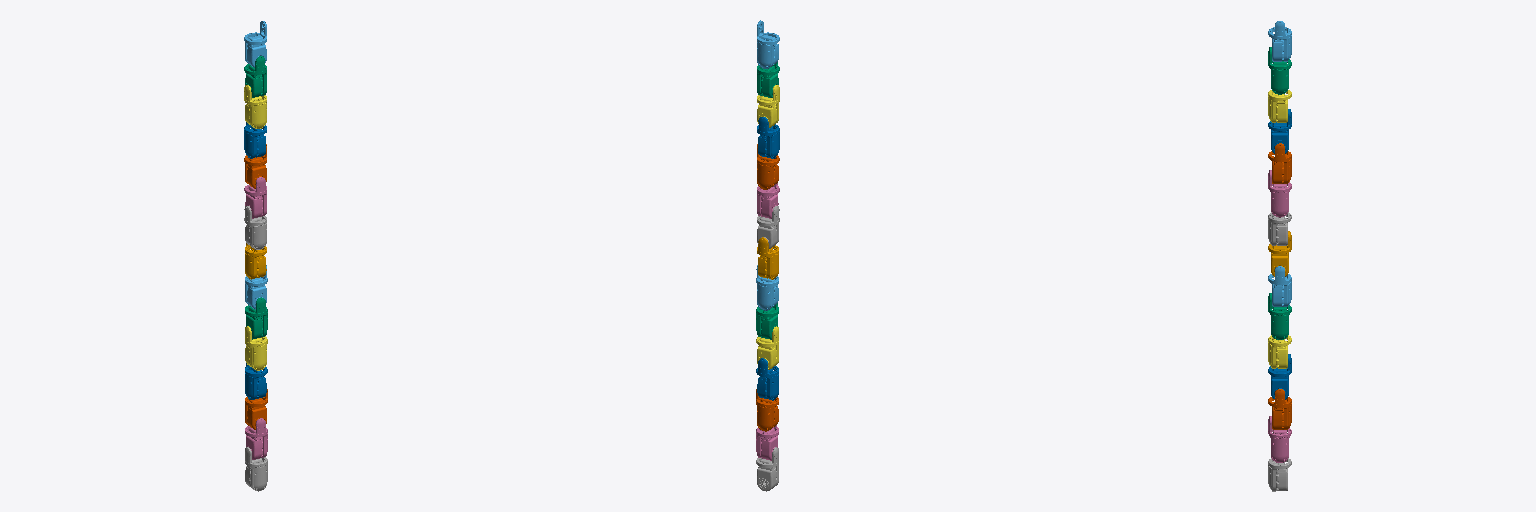
URDF robot description (RSNAKE_urdf):
<?xml version="1.0"?>
<!-- https://docs.hebi.us/resources/datasheets/R-SeriesDatasheet.pdf -->

<!-- Inertia approximated as sphere-->
<!-- Mass computed by summing the bracket and module masses -->

<robot name="RSNAKE_urdf">
	<link name="kdl_dummy_root"/>
	<joint name="kdl_dummy_root_to_module_0" type="fixed">
		<parent link="kdl_dummy_root"/>
		<child link="module_0"/>
		<origin rpy="0 1.57 0" xyz="0. 0 0"/>
	</joint>
	<link name="module_0">
		<visual>
			<origin rpy="0 0 0" xyz="0 0 0"/>
			<geometry>
				<mesh filename="package://snakelib_description/RSNAKE_snake/meshes/R8_16_link.stl" scale="0.001 0.001 0.001"/>
			</geometry>
		</visual>
		<collision>
			<origin rpy="0 1.57 0" xyz="0.118 0 0"/>
			<geometry>
				<cylinder length="0.1450" radius="0.05"/>
			</geometry>
		</collision>
		<inertial>
			<mass value="1.072"/>
			<inertia ixx="0.0104" ixy="0.0" ixz="0.0" iyy="0.0104" iyz="0.0" izz="0.0104"/>
		</inertial>
	</link>

	<joint name="module_0_to_1" type="revolute">
		<parent link="module_0"/>
		<child link="module_1"/>
		<axis xyz="0 0 1"/>
		<origin rpy="1.57 0 0" xyz="0.145 0 0"/>
		<limit effort="16.0" lower="-1.57" upper="1.57" velocity="0.25"/>
	</joint>

	<link name="module_1">
		<visual>
			<origin rpy="0 0 0" xyz="0 0 0"/>
			<geometry>
				<mesh filename="package://snakelib_description/RSNAKE_snake/meshes/R8_16_link.stl" scale="0.001 0.001 0.001"/>
			</geometry>
		</visual>
		<collision>
			<origin rpy="0 1.57 0" xyz="0.118 0 0"/>
			<geometry>
				<cylinder length="0.1450" radius="0.05"/>
			</geometry>
		</collision>
		<inertial>
			<mass value="1.072"/>
			<inertia ixx="0.0104" ixy="0.0" ixz="0.0" iyy="0.0104" iyz="0.0" izz="0.0104"/>
		</inertial>
	</link>

	<joint name="module_1_to_2" type="revolute">
		<parent link="module_1"/>
		<child link="module_2"/>
		<axis xyz="0 0 1"/>
		<origin rpy="1.57 0 0" xyz="0.145 0 0"/>
		<limit effort="16.0" lower="-1.57" upper="1.57" velocity="0.25"/>
	</joint>

	<link name="module_2">
		<visual>
			<origin rpy="0 0 0" xyz="0 0 0"/>
			<geometry>
				<mesh filename="package://snakelib_description/RSNAKE_snake/meshes/R8_16_link.stl" scale="0.001 0.001 0.001"/>
			</geometry>
		</visual>
		<collision>
			<origin rpy="0 1.57 0" xyz="0.118 0 0"/>
			<geometry>
				<cylinder length="0.1450" radius="0.05"/>
			</geometry>
		</collision>
		<inertial>
			<mass value="1.072"/>
			<inertia ixx="0.0104" ixy="0.0" ixz="0.0" iyy="0.0104" iyz="0.0" izz="0.0104"/>
		</inertial>
	</link>

	<joint name="module_2_to_3" type="revolute">
		<parent link="module_2"/>
		<child link="module_3"/>
		<axis xyz="0 0 1"/>
		<origin rpy="1.57 0 0" xyz="0.145 0 0"/>
		<limit effort="16.0" lower="-1.57" upper="1.57" velocity="0.25"/>
	</joint>

	<link name="module_3">
		<visual>
			<origin rpy="0 0 0" xyz="0 0 0"/>
			<geometry>
				<mesh filename="package://snakelib_description/RSNAKE_snake/meshes/R8_16_link.stl" scale="0.001 0.001 0.001"/>
			</geometry>
		</visual>
		<collision>
			<origin rpy="0 1.57 0" xyz="0.118 0 0"/>
			<geometry>
				<cylinder length="0.1450" radius="0.05"/>
			</geometry>
		</collision>
		<inertial>
			<mass value="1.072"/>
			<inertia ixx="0.0104" ixy="0.0" ixz="0.0" iyy="0.0104" iyz="0.0" izz="0.0104"/>
		</inertial>
	</link>

	<joint name="module_3_to_4" type="revolute">
		<parent link="module_3"/>
		<child link="module_4"/>
		<axis xyz="0 0 1"/>
		<origin rpy="1.57 0 0" xyz="0.145 0 0"/>
		<limit effort="16.0" lower="-1.57" upper="1.57" velocity="0.25"/>
	</joint>

	<link name="module_4">
		<visual>
			<origin rpy="0 0 0" xyz="0 0 0"/>
			<geometry>
				<mesh filename="package://snakelib_description/RSNAKE_snake/meshes/R8_16_link.stl" scale="0.001 0.001 0.001"/>
			</geometry>
		</visual>
		<collision>
			<origin rpy="0 1.57 0" xyz="0.118 0 0"/>
			<geometry>
				<cylinder length="0.1450" radius="0.05"/>
			</geometry>
		</collision>
		<inertial>
			<mass value="1.072"/>
			<inertia ixx="0.0104" ixy="0.0" ixz="0.0" iyy="0.0104" iyz="0.0" izz="0.0104"/>
		</inertial>
	</link>

	<joint name="module_4_to_5" type="revolute">
		<parent link="module_4"/>
		<child link="module_5"/>
		<axis xyz="0 0 1"/>
		<origin rpy="1.57 0 0" xyz="0.145 0 0"/>
		<limit effort="16.0" lower="-1.57" upper="1.57" velocity="0.25"/>
	</joint>

	<link name="module_5">
		<visual>
			<origin rpy="0 0 0" xyz="0 0 0"/>
			<geometry>
				<mesh filename="package://snakelib_description/RSNAKE_snake/meshes/R8_16_link.stl" scale="0.001 0.001 0.001"/>
			</geometry>
		</visual>
		<collision>
			<origin rpy="0 1.57 0" xyz="0.118 0 0"/>
			<geometry>
				<cylinder length="0.1450" radius="0.05"/>
			</geometry>
		</collision>
		<inertial>
			<mass value="1.072"/>
			<inertia ixx="0.0104" ixy="0.0" ixz="0.0" iyy="0.0104" iyz="0.0" izz="0.0104"/>
		</inertial>
	</link>

	<joint name="module_5_to_6" type="revolute">
		<parent link="module_5"/>
		<child link="module_6"/>
		<axis xyz="0 0 1"/>
		<origin rpy="1.57 0 0" xyz="0.145 0 0"/>
		<limit effort="16.0" lower="-1.57" upper="1.57" velocity="0.25"/>
	</joint>

	<link name="module_6">
		<visual>
			<origin rpy="0 0 0" xyz="0 0 0"/>
			<geometry>
				<mesh filename="package://snakelib_description/RSNAKE_snake/meshes/R8_16_link.stl" scale="0.001 0.001 0.001"/>
			</geometry>
		</visual>
		<collision>
			<origin rpy="0 1.57 0" xyz="0.118 0 0"/>
			<geometry>
				<cylinder length="0.1450" radius="0.05"/>
			</geometry>
		</collision>
		<inertial>
			<mass value="1.072"/>
			<inertia ixx="0.0104" ixy="0.0" ixz="0.0" iyy="0.0104" iyz="0.0" izz="0.0104"/>
		</inertial>
	</link>

	<joint name="module_6_to_7" type="revolute">
		<parent link="module_6"/>
		<child link="module_7"/>
		<axis xyz="0 0 1"/>
		<origin rpy="1.57 0 0" xyz="0.145 0 0"/>
		<limit effort="16.0" lower="-1.57" upper="1.57" velocity="0.25"/>
	</joint>

	<link name="module_7">
		<visual>
			<origin rpy="0 0 0" xyz="0 0 0"/>
			<geometry>
				<mesh filename="package://snakelib_description/RSNAKE_snake/meshes/R8_16_link.stl" scale="0.001 0.001 0.001"/>
			</geometry>
		</visual>
		<collision>
			<origin rpy="0 1.57 0" xyz="0.118 0 0"/>
			<geometry>
				<cylinder length="0.1450" radius="0.05"/>
			</geometry>
		</collision>
		<inertial>
			<mass value="1.072"/>
			<inertia ixx="0.0104" ixy="0.0" ixz="0.0" iyy="0.0104" iyz="0.0" izz="0.0104"/>
		</inertial>
	</link>

	<joint name="module_7_to_8" type="revolute">
		<parent link="module_7"/>
		<child link="module_8"/>
		<axis xyz="0 0 1"/>
		<origin rpy="1.57 0 0" xyz="0.145 0 0"/>
		<limit effort="16.0" lower="-1.57" upper="1.57" velocity="0.25"/>
	</joint>

	<link name="module_8">
		<visual>
			<origin rpy="0 0 0" xyz="0 0 0"/>
			<geometry>
				<mesh filename="package://snakelib_description/RSNAKE_snake/meshes/R8_16_link.stl" scale="0.001 0.001 0.001"/>
			</geometry>
		</visual>
		<collision>
			<origin rpy="0 1.57 0" xyz="0.118 0 0"/>
			<geometry>
				<cylinder length="0.1450" radius="0.05"/>
			</geometry>
		</collision>
		<inertial>
			<mass value="1.072"/>
			<inertia ixx="0.0104" ixy="0.0" ixz="0.0" iyy="0.0104" iyz="0.0" izz="0.0104"/>
		</inertial>
	</link>

	<joint name="module_8_to_9" type="revolute">
		<parent link="module_8"/>
		<child link="module_9"/>
		<axis xyz="0 0 1"/>
		<origin rpy="1.57 0 0" xyz="0.145 0 0"/>
		<limit effort="16.0" lower="-1.57" upper="1.57" velocity="0.25"/>
	</joint>

	<link name="module_9">
		<visual>
			<origin rpy="0 0 0" xyz="0 0 0"/>
			<geometry>
				<mesh filename="package://snakelib_description/RSNAKE_snake/meshes/R8_16_link.stl" scale="0.001 0.001 0.001"/>
			</geometry>
		</visual>
		<collision>
			<origin rpy="0 1.57 0" xyz="0.118 0 0"/>
			<geometry>
				<cylinder length="0.1450" radius="0.05"/>
			</geometry>
		</collision>
		<inertial>
			<mass value="1.072"/>
			<inertia ixx="0.0104" ixy="0.0" ixz="0.0" iyy="0.0104" iyz="0.0" izz="0.0104"/>
		</inertial>
	</link>

	<joint name="module_9_to_10" type="revolute">
		<parent link="module_9"/>
		<child link="module_10"/>
		<axis xyz="0 0 1"/>
		<origin rpy="1.57 0 0" xyz="0.145 0 0"/>
		<limit effort="16.0" lower="-1.57" upper="1.57" velocity="0.25"/>
	</joint>

	<link name="module_10">
		<visual>
			<origin rpy="0 0 0" xyz="0 0 0"/>
			<geometry>
				<mesh filename="package://snakelib_description/RSNAKE_snake/meshes/R8_16_link.stl" scale="0.001 0.001 0.001"/>
			</geometry>
		</visual>
		<collision>
			<origin rpy="0 1.57 0" xyz="0.118 0 0"/>
			<geometry>
				<cylinder length="0.1450" radius="0.05"/>
			</geometry>
		</collision>
		<inertial>
			<mass value="1.072"/>
			<inertia ixx="0.0104" ixy="0.0" ixz="0.0" iyy="0.0104" iyz="0.0" izz="0.0104"/>
		</inertial>
	</link>

	<joint name="module_10_to_11" type="revolute">
		<parent link="module_10"/>
		<child link="module_11"/>
		<axis xyz="0 0 1"/>
		<origin rpy="1.57 0 0" xyz="0.145 0 0"/>
		<limit effort="16.0" lower="-1.57" upper="1.57" velocity="0.25"/>
	</joint>

	<link name="module_11">
		<visual>
			<origin rpy="0 0 0" xyz="0 0 0"/>
			<geometry>
				<mesh filename="package://snakelib_description/RSNAKE_snake/meshes/R8_16_link.stl" scale="0.001 0.001 0.001"/>
			</geometry>
		</visual>
		<collision>
			<origin rpy="0 1.57 0" xyz="0.118 0 0"/>
			<geometry>
				<cylinder length="0.1450" radius="0.05"/>
			</geometry>
		</collision>
		<inertial>
			<mass value="1.072"/>
			<inertia ixx="0.0104" ixy="0.0" ixz="0.0" iyy="0.0104" iyz="0.0" izz="0.0104"/>
		</inertial>
	</link>

	<joint name="module_11_to_12" type="revolute">
		<parent link="module_11"/>
		<child link="module_12"/>
		<axis xyz="0 0 1"/>
		<origin rpy="1.57 0 0" xyz="0.145 0 0"/>
		<limit effort="16.0" lower="-1.57" upper="1.57" velocity="0.25"/>
	</joint>

	<link name="module_12">
		<visual>
			<origin rpy="0 0 0" xyz="0 0 0"/>
			<geometry>
				<mesh filename="package://snakelib_description/RSNAKE_snake/meshes/R8_16_link.stl" scale="0.001 0.001 0.001"/>
			</geometry>
		</visual>
		<collision>
			<origin rpy="0 1.57 0" xyz="0.118 0 0"/>
			<geometry>
				<cylinder length="0.1450" radius="0.05"/>
			</geometry>
		</collision>
		<inertial>
			<mass value="1.072"/>
			<inertia ixx="0.0104" ixy="0.0" ixz="0.0" iyy="0.0104" iyz="0.0" izz="0.0104"/>
		</inertial>
	</link>

	<joint name="module_12_to_13" type="revolute">
		<parent link="module_12"/>
		<child link="module_13"/>
		<axis xyz="0 0 1"/>
		<origin rpy="1.57 0 0" xyz="0.145 0 0"/>
		<limit effort="16.0" lower="-1.57" upper="1.57" velocity="0.25"/>
	</joint>

	<link name="module_13">
		<visual>
			<origin rpy="0 0 0" xyz="0 0 0"/>
			<geometry>
				<mesh filename="package://snakelib_description/RSNAKE_snake/meshes/R8_16_link.stl" scale="0.001 0.001 0.001"/>
			</geometry>
		</visual>
		<collision>
			<origin rpy="0 1.57 0" xyz="0.118 0 0"/>
			<geometry>
				<cylinder length="0.1450" radius="0.05"/>
			</geometry>
		</collision>
		<inertial>
			<mass value="1.072"/>
			<inertia ixx="0.0104" ixy="0.0" ixz="0.0" iyy="0.0104" iyz="0.0" izz="0.0104"/>
		</inertial>
	</link>

	<joint name="module_13_to_14" type="revolute">
		<parent link="module_13"/>
		<child link="module_14"/>
		<axis xyz="0 0 1"/>
		<origin rpy="1.57 0 0" xyz="0.145 0 0"/>
		<limit effort="16.0" lower="-1.57" upper="1.57" velocity="0.25"/>
	</joint>

	<link name="module_14">
		<visual>
			<origin rpy="0 0 0" xyz="0 0 0"/>
			<geometry>
				<mesh filename="package://snakelib_description/RSNAKE_snake/meshes/R8_16_link.stl" scale="0.001 0.001 0.001"/>
			</geometry>
		</visual>
		<collision>
			<origin rpy="0 1.57 0" xyz="0.118 0 0"/>
			<geometry>
				<cylinder length="0.1450" radius="0.05"/>
			</geometry>
		</collision>
		<inertial>
			<mass value="1.072"/>
			<inertia ixx="0.0104" ixy="0.0" ixz="0.0" iyy="0.0104" iyz="0.0" izz="0.0104"/>
		</inertial>
	</link>
</robot>

--- Render facts (derived) ---
Views: 3 orthographic renders of the robot side by side, from view 1: azimuth 30°, elevation 25°; view 2: azimuth 150°, elevation 25°; view 3: azimuth 270°, elevation 25°.
Model RSNAKE_urdf with 16 links and 15 joints (14 revolute, 1 fixed), rooted at kdl_dummy_root, posed every joint at zero.
Links seen in each view (by area): view 1: module_14, module_2, module_10, module_6, module_13, module_9, module_1, module_0, module_5, module_3, module_11, module_7 (+3 smaller); view 2: module_0, module_3, module_11, module_7, module_14, module_12, module_8, module_4, module_10, module_2, module_6, module_9 (+3 smaller); view 3: module_0, module_12, module_8, module_4, module_5, module_9, module_13, module_1, module_6, module_10, module_2, module_14 (+3 smaller).
Boxes of the visible links, x1,y1,x2,y2 form: module_14: (245,447,267,491); module_2: (244,85,266,128); module_10: (245,326,267,370); module_6: (244,206,266,249); module_13: (245,418,267,459); module_9: (245,297,267,339); module_1: (244,56,266,97); module_0: (244,21,266,67); module_5: (244,177,266,218); module_3: (244,122,266,158); module_11: (245,363,267,399); module_7: (245,243,266,279); module_0: (757,20,779,68); module_3: (757,117,779,158); module_11: (756,358,778,400); module_7: (757,237,778,279); module_14: (756,447,778,491); module_12: (756,389,778,431); module_8: (756,265,778,310); module_4: (757,144,779,189); module_10: (756,326,778,369); module_2: (757,85,779,127); module_6: (757,206,779,248); module_9: (756,303,778,339); module_0: (1268,21,1291,61); module_12: (1268,389,1291,429); module_8: (1268,266,1291,306); module_4: (1268,143,1291,183); module_5: (1268,170,1291,217); module_9: (1268,293,1291,339); module_13: (1268,416,1291,462); module_1: (1268,47,1291,94); module_6: (1268,212,1291,245); module_10: (1268,335,1291,368); module_2: (1268,90,1291,122); module_14: (1268,458,1291,491).
Size in the robot's own frame: 0.1016 by 0.1 by 2.24 metres.
15 mesh visuals loaded from 1 distinct referenced files (1 binary STL).
